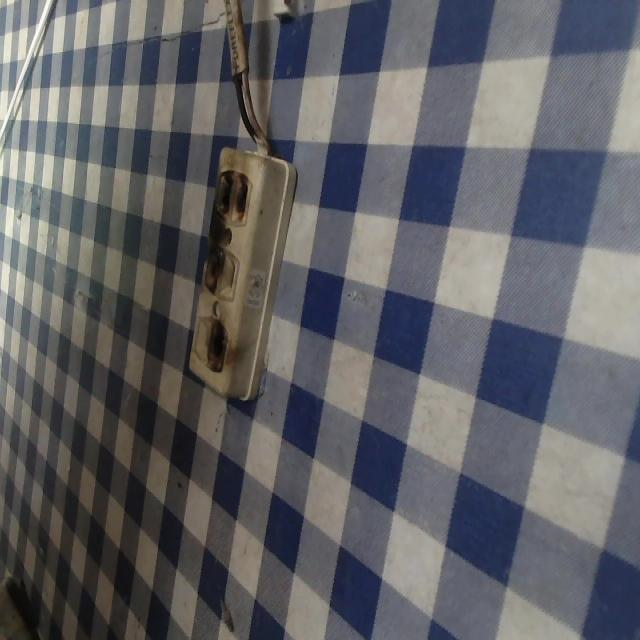-: (211, 164, 251, 227), (205, 313, 229, 375), (200, 240, 225, 295)
